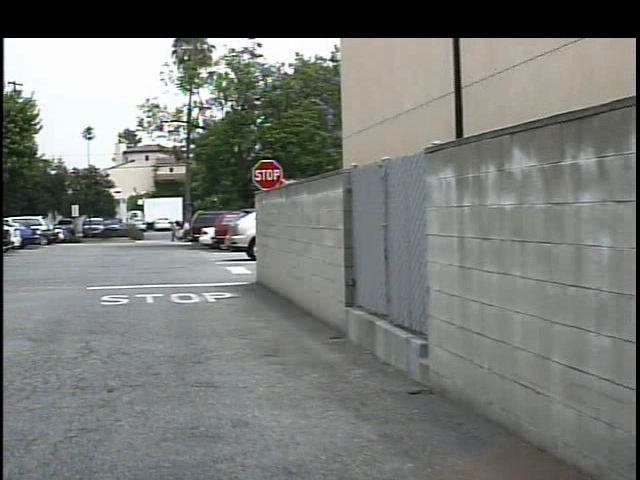person: (158, 218, 172, 245)
